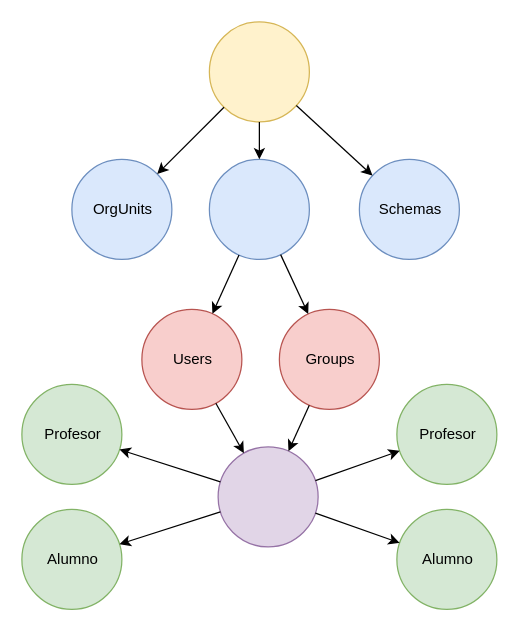
This 519x631 diagram has some shape labels left out. Each missing label, with the box of its shape:
BaseComun: (217, 446, 318, 547)
EntidadBase: (208, 21, 309, 122)
GrUsers: (208, 158, 309, 259)
